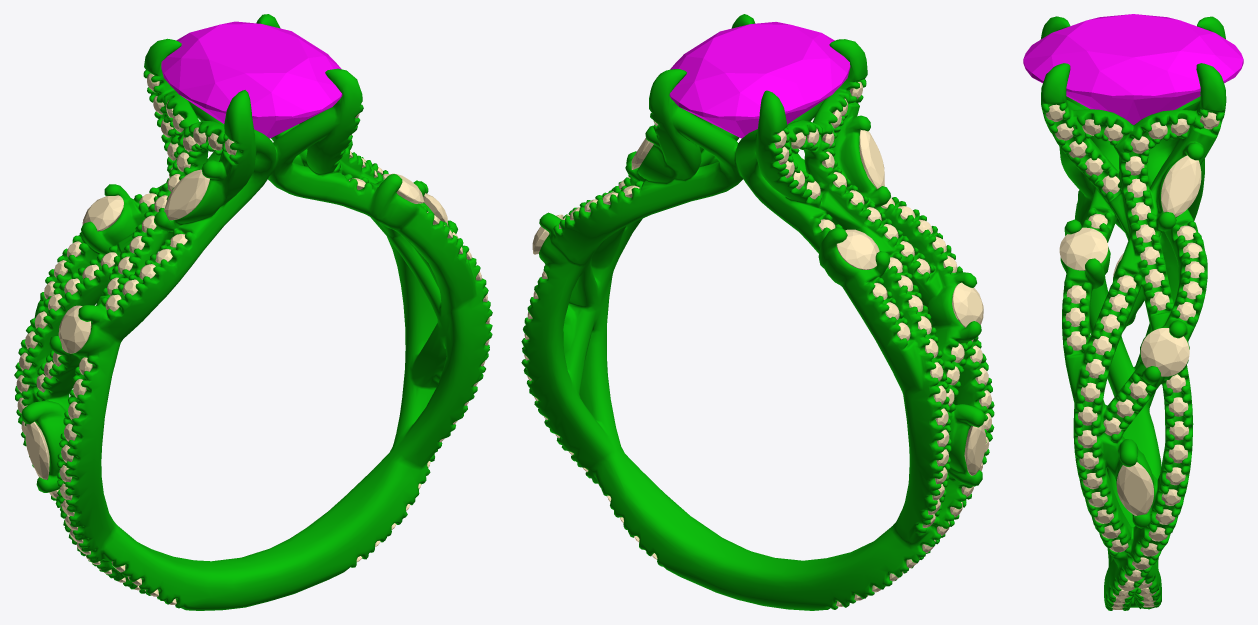
Rendered from BE1D9898_OV_200ct_RENDER.glb.
3 renders of one model, left to right at view 1: azimuth 30°, elevation 25°; view 2: azimuth 150°, elevation 25°; view 3: azimuth 270°, elevation 25°, orthographic.
Parts seen in each view (by area): view 1: Metal 01, CS_Diamond_Oval, Diamond_Marquise_Gem_SH.003, Diamond_Round_Gem_SH.011, Diamond_Round_Gem_SH.010, Diamond_Marquise_Gem_SH; view 2: Metal 01, CS_Diamond_Oval, Diamond_Round_Gem_SH.010, Diamond_Round_Gem_SH.011, Diamond_Marquise_Gem_SH.003, Diamond_Marquise_Gem_SH; view 3: Metal 01, CS_Diamond_Oval, Diamond_Marquise_Gem_SH.002, Diamond_Round_Gem_SH.059, Diamond_Marquise_Gem_SH.001, Diamond_Round_Gem_SH.058.
Boxes of the visible parts, box(x1,y1,x2,y2) form: Metal 01: box(14, 14, 492, 610); CS_Diamond_Oval: box(161, 21, 342, 138); Diamond_Marquise_Gem_SH.003: box(164, 169, 209, 220); Diamond_Round_Gem_SH.011: box(58, 305, 91, 353); Diamond_Round_Gem_SH.010: box(82, 195, 123, 231); Diamond_Marquise_Gem_SH: box(25, 421, 49, 479); Metal 01: box(521, 14, 994, 610); CS_Diamond_Oval: box(669, 22, 850, 138); Diamond_Round_Gem_SH.010: box(836, 229, 879, 269); Diamond_Round_Gem_SH.011: box(952, 282, 983, 327); Diamond_Marquise_Gem_SH.003: box(859, 130, 884, 189); Diamond_Marquise_Gem_SH: box(964, 424, 985, 475); Metal 01: box(1040, 16, 1226, 610); CS_Diamond_Oval: box(1023, 14, 1243, 124); Diamond_Marquise_Gem_SH.002: box(1161, 155, 1201, 217); Diamond_Round_Gem_SH.059: box(1140, 328, 1189, 376); Diamond_Marquise_Gem_SH.001: box(1116, 462, 1153, 515); Diamond_Round_Gem_SH.058: box(1059, 227, 1108, 270).
Bounding box in the file's own units: 21.55 × 24.89 × 9.
